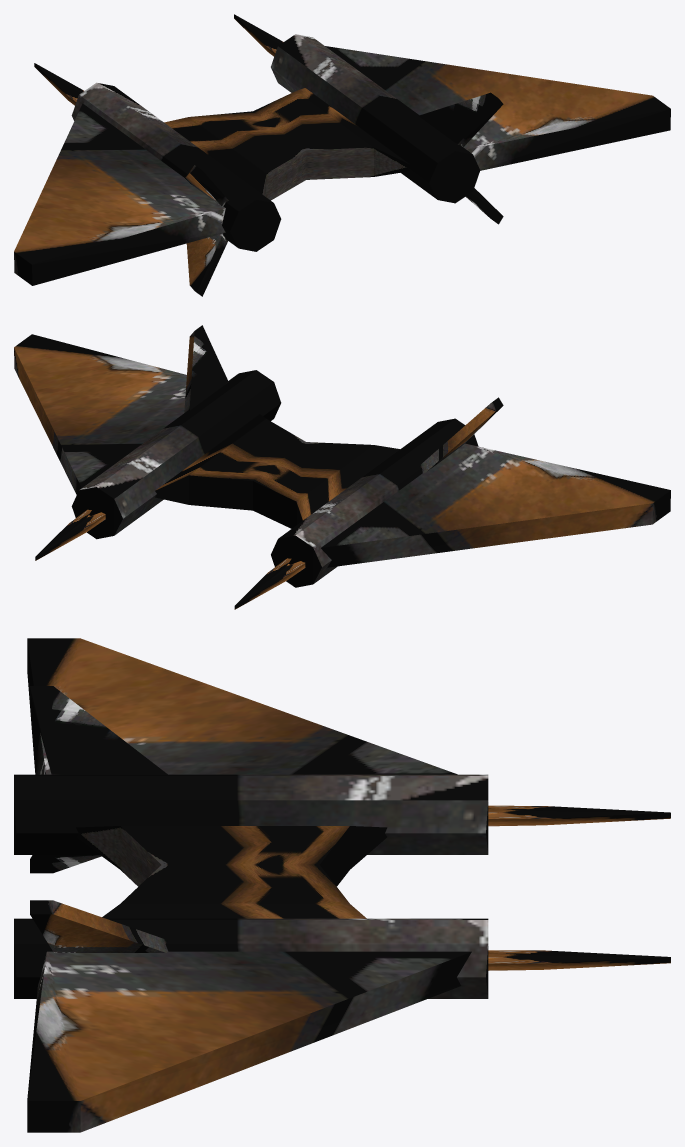
The model's file is Wolffish.fbx.
3 views of the same model, one above another, from view 1: azimuth 30°, elevation 25°; view 2: azimuth 150°, elevation 25°; view 3: azimuth 270°, elevation 25° (orthographic). The views are drawn at different scales.
Visible parts, largest first — view 1: Wolffish; view 2: Wolffish; view 3: Wolffish.
Boxes of the visible parts, x1=… form: Wolffish: x1=14, y1=14, x2=670, y2=296; Wolffish: x1=14, y1=325, x2=670, y2=609; Wolffish: x1=14, y1=638, x2=670, y2=1132.
Bounding box in the file's own units: 138 × 26.06 × 82.83.
Materials: 1 (1 with a texture image).
